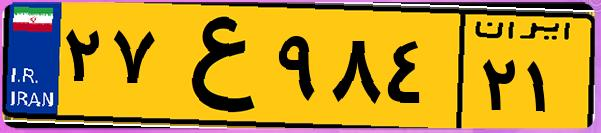1: (525, 38, 570, 115)
2: (57, 26, 110, 100), (475, 38, 525, 113)
4: (385, 28, 445, 110)
7: (110, 28, 158, 98)
8: (330, 28, 385, 110)
9: (270, 28, 330, 110)
ع: (158, 12, 270, 120)
